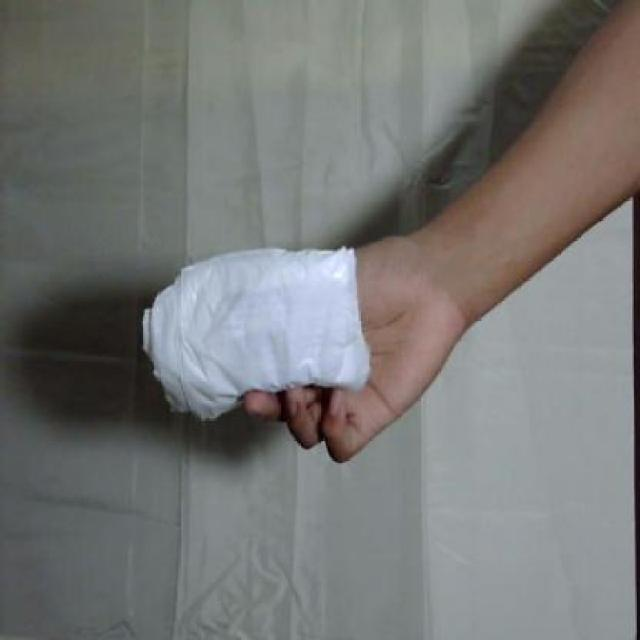Plastic: (132, 231, 384, 428)
